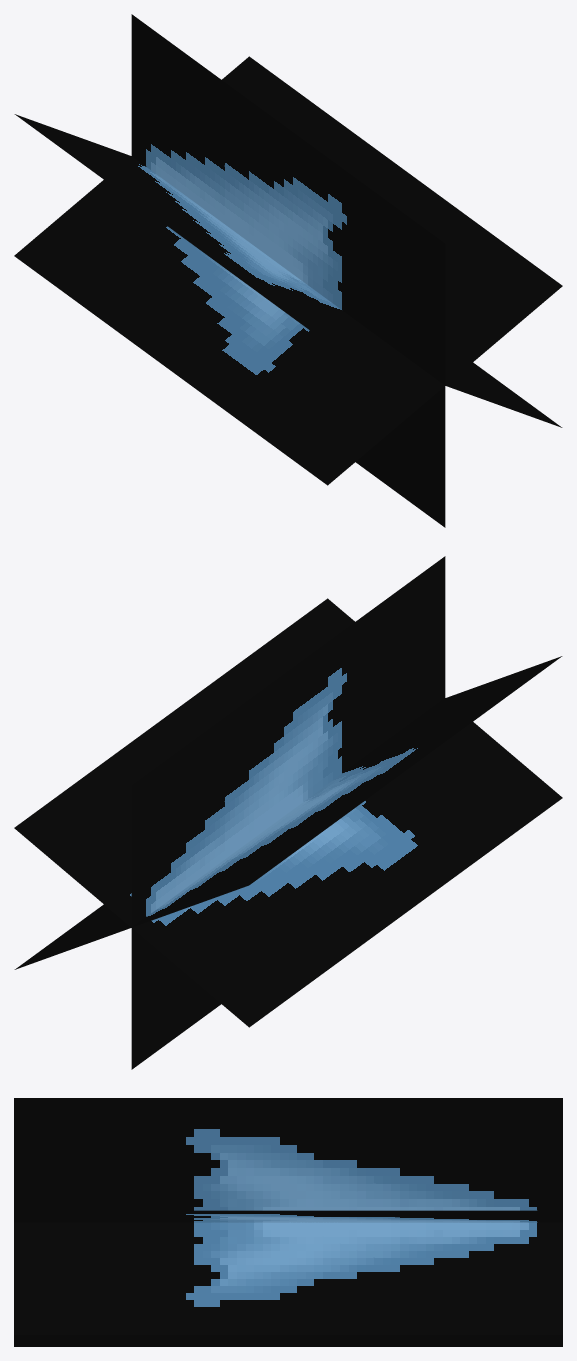
Rendered from projectile.glb.
3 renders of one model, top to bottom at view 1: azimuth 30°, elevation 25°; view 2: azimuth 150°, elevation 25°; view 3: azimuth 270°, elevation 25°, orthographic. The views are drawn at different scales.
Visible parts, largest first — view 1: Plane; view 2: Plane; view 3: Plane.
Boxes of the visible parts, x1,y1,x2,y2 form: Plane: (14, 14, 562, 527); Plane: (14, 556, 562, 1069); Plane: (14, 1098, 562, 1346).
Bounding box in the file's own units: 0.433 × 0.5 × 1.
1 material, 1 textured.
